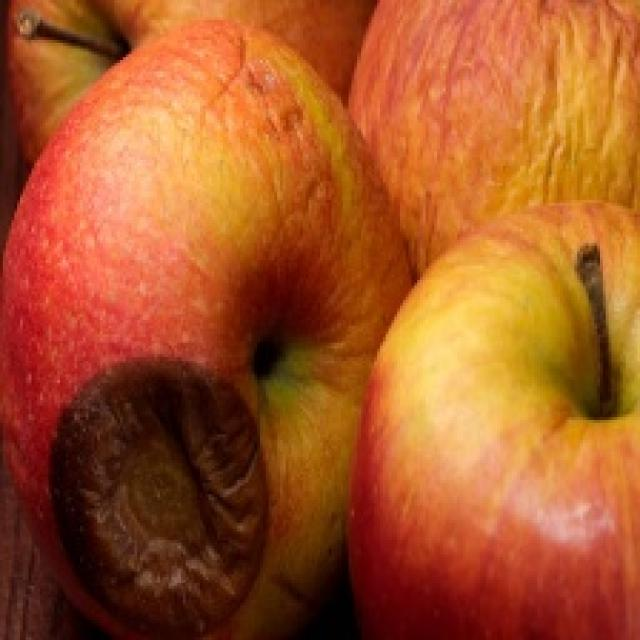rotten_apple: (0, 20, 351, 640)
